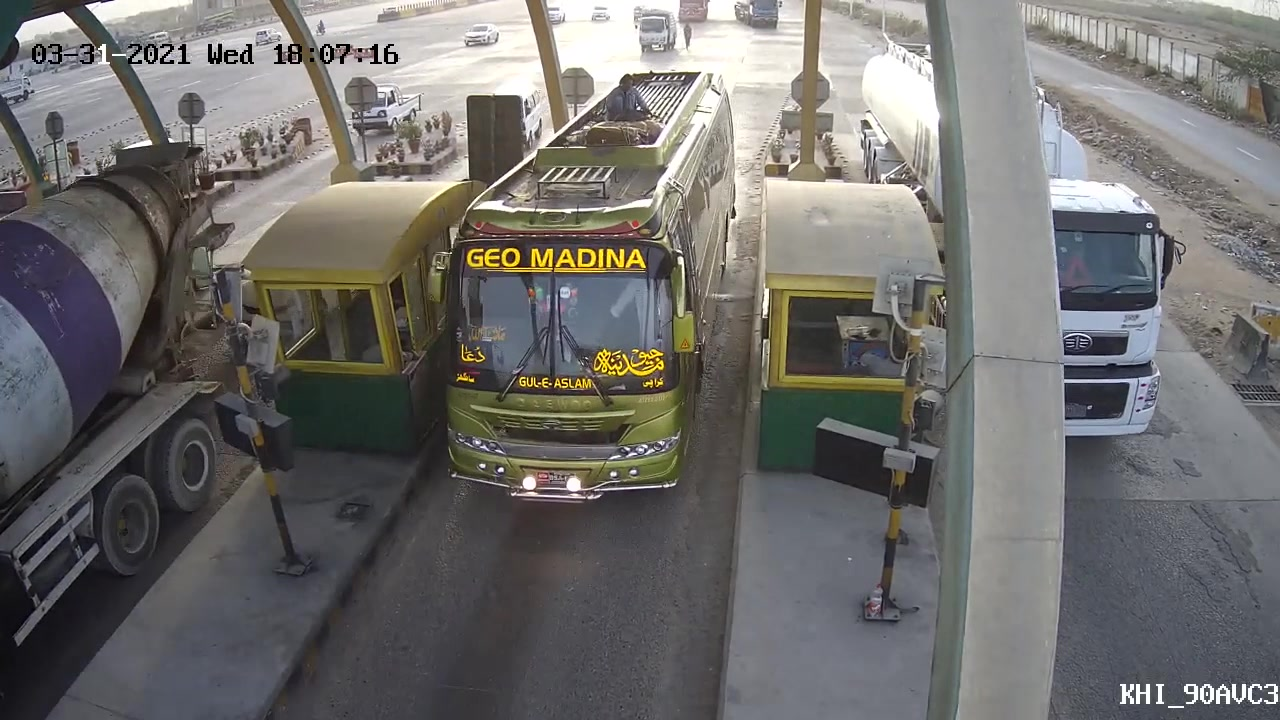F4: (417, 63, 741, 518)
